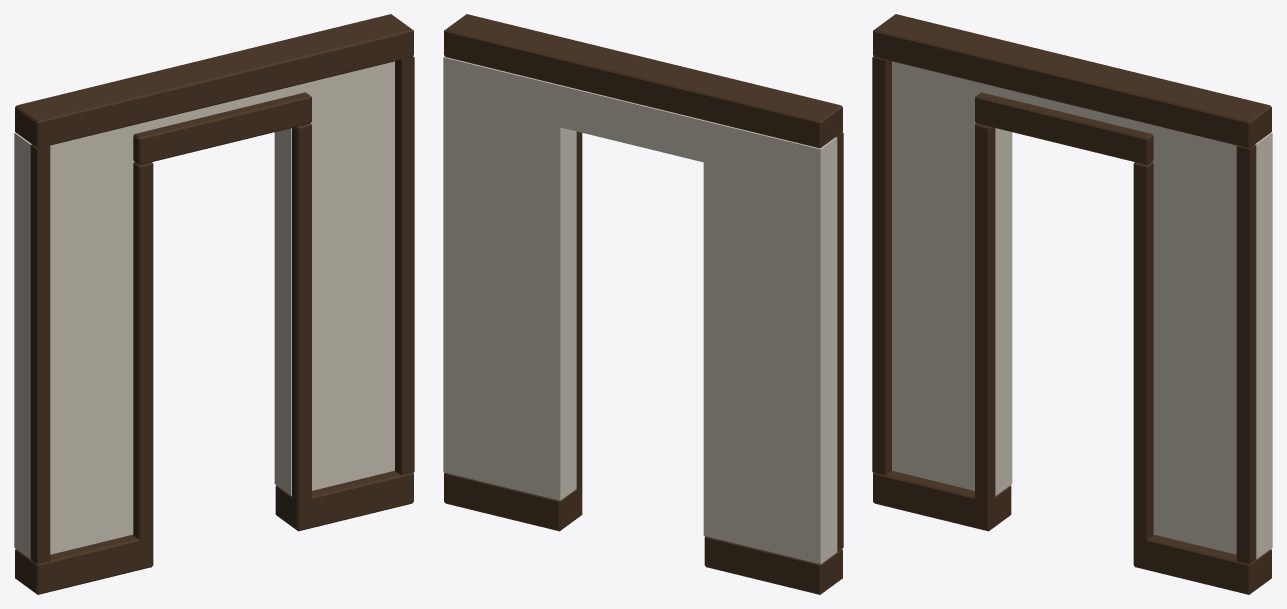
File: mdvl_village_wall_door_01.glb
3 renders of one model, left to right at view 1: azimuth 30°, elevation 25°; view 2: azimuth 150°, elevation 25°; view 3: azimuth 330°, elevation 25°, orthographic.
Visible parts, largest first — view 1: mdvl_village_wall_door_01; view 2: mdvl_village_wall_door_01; view 3: mdvl_village_wall_door_01.
Boxes of the visible parts, x1,y1,x2,y2 form: mdvl_village_wall_door_01: [14, 14, 414, 594]; mdvl_village_wall_door_01: [443, 14, 843, 594]; mdvl_village_wall_door_01: [872, 14, 1272, 594].
Bounding box in the file's own units: 2 × 2.4 × 0.21.
1 material, 1 textured.
